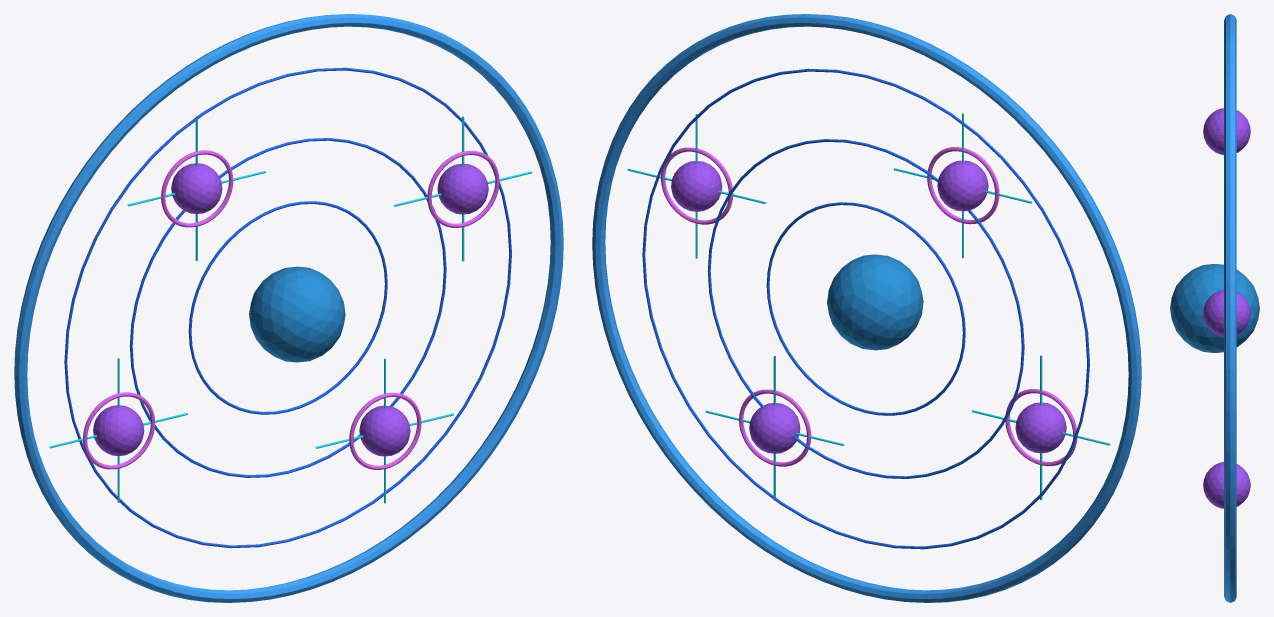
File: 04_L91_PulsarVectorHologram.fbx
The picture shows the model from 3 angles, left to right: view 1: azimuth 30°, elevation 25°; view 2: azimuth 150°, elevation 25°; view 3: azimuth 270°, elevation 25°; orthographic projection. The views are drawn at different scales.
Parts seen in each view (by area): view 1: L91_PulsarVectorHologram_Part_0000, L91_PulsarVectorHologram_Part_0005, L91_PulsarVectorHologram_Part_0001, L91_PulsarVectorHologram_Part_0004, L91_PulsarVectorHologram_Part_0002, L91_PulsarVectorHologram_Part_0003; view 2: L91_PulsarVectorHologram_Part_0000, L91_PulsarVectorHologram_Part_0005, L91_PulsarVectorHologram_Part_0001, L91_PulsarVectorHologram_Part_0004, L91_PulsarVectorHologram_Part_0002, L91_PulsarVectorHologram_Part_0003; view 3: L91_PulsarVectorHologram_Part_0000, L91_PulsarVectorHologram_Part_0004, L91_PulsarVectorHologram_Part_0001.
Part boxes in pixels (x1,y1,x2,y2): L91_PulsarVectorHologram_Part_0000: [14, 14, 563, 602]; L91_PulsarVectorHologram_Part_0005: [64, 67, 511, 548]; L91_PulsarVectorHologram_Part_0001: [93, 163, 488, 456]; L91_PulsarVectorHologram_Part_0004: [249, 266, 345, 362]; L91_PulsarVectorHologram_Part_0002: [83, 150, 499, 469]; L91_PulsarVectorHologram_Part_0003: [49, 116, 532, 503]; L91_PulsarVectorHologram_Part_0000: [592, 14, 1141, 602]; L91_PulsarVectorHologram_Part_0005: [642, 68, 1089, 549]; L91_PulsarVectorHologram_Part_0001: [671, 160, 1066, 453]; L91_PulsarVectorHologram_Part_0004: [827, 254, 923, 350]; L91_PulsarVectorHologram_Part_0002: [661, 147, 1077, 466]; L91_PulsarVectorHologram_Part_0003: [627, 113, 1110, 500]; L91_PulsarVectorHologram_Part_0000: [1224, 14, 1236, 602]; L91_PulsarVectorHologram_Part_0004: [1170, 264, 1259, 352]; L91_PulsarVectorHologram_Part_0001: [1203, 108, 1250, 508].
Size of the model in its own units: 838 by 838 by 128.
